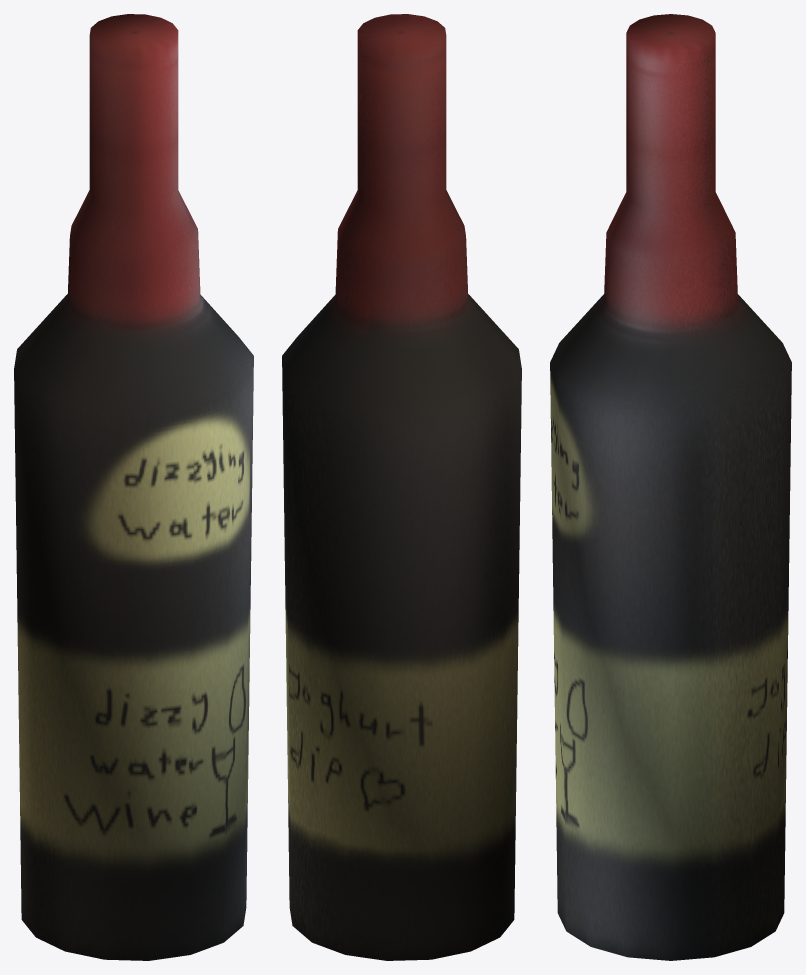
File: wine1.fbx
3 renders of one model, left to right at view 1: azimuth 30°, elevation 25°; view 2: azimuth 150°, elevation 25°; view 3: azimuth 270°, elevation 25°, orthographic.
Visible parts, largest first — view 1: wine1low; view 2: wine1low; view 3: wine1low.
Part boxes in pixels (bbox=[...]): wine1low: bbox=[14, 14, 253, 960]; wine1low: bbox=[282, 14, 521, 960]; wine1low: bbox=[550, 14, 791, 960].
Bounding box in the file's own units: 0.071 × 0.071 × 0.2852.
Materials: 1 (1 with a texture image).
